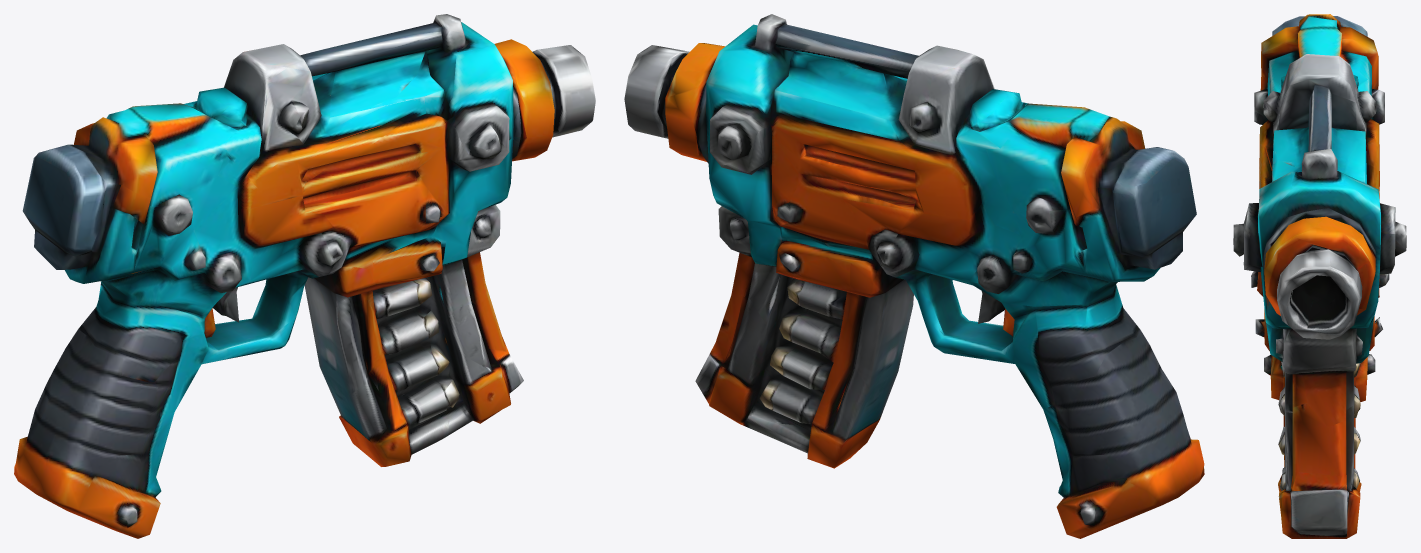
The model's file is W01_rivet_gun.glb.
3 views of the same model, side by side, from view 1: azimuth 30°, elevation 25°; view 2: azimuth 150°, elevation 25°; view 3: azimuth 270°, elevation 25° (orthographic). The views are drawn at different scales.
Visible parts, largest first — view 1: tripo_node_60d0e1cd-9f0f-4893-8cc4-97e4b7f7e507; view 2: tripo_node_60d0e1cd-9f0f-4893-8cc4-97e4b7f7e507; view 3: tripo_node_60d0e1cd-9f0f-4893-8cc4-97e4b7f7e507.
Part boxes in pixels (<box>): tripo_node_60d0e1cd-9f0f-4893-8cc4-97e4b7f7e507: <box>14,14,595,538</box>; tripo_node_60d0e1cd-9f0f-4893-8cc4-97e4b7f7e507: <box>624,14,1204,538</box>; tripo_node_60d0e1cd-9f0f-4893-8cc4-97e4b7f7e507: <box>1233,14,1406,538</box>.
Size of the model in its own units: 0.9984 by 0.7574 by 0.2888.
Materials: 1 (1 with a texture image).
